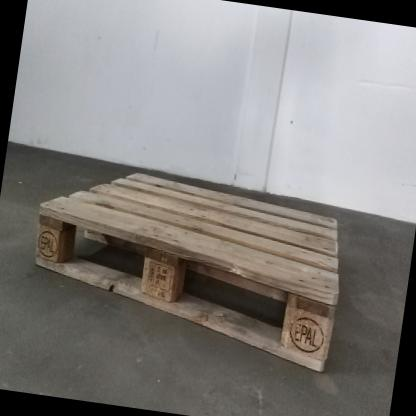BoxFace: (30, 167, 341, 380)
